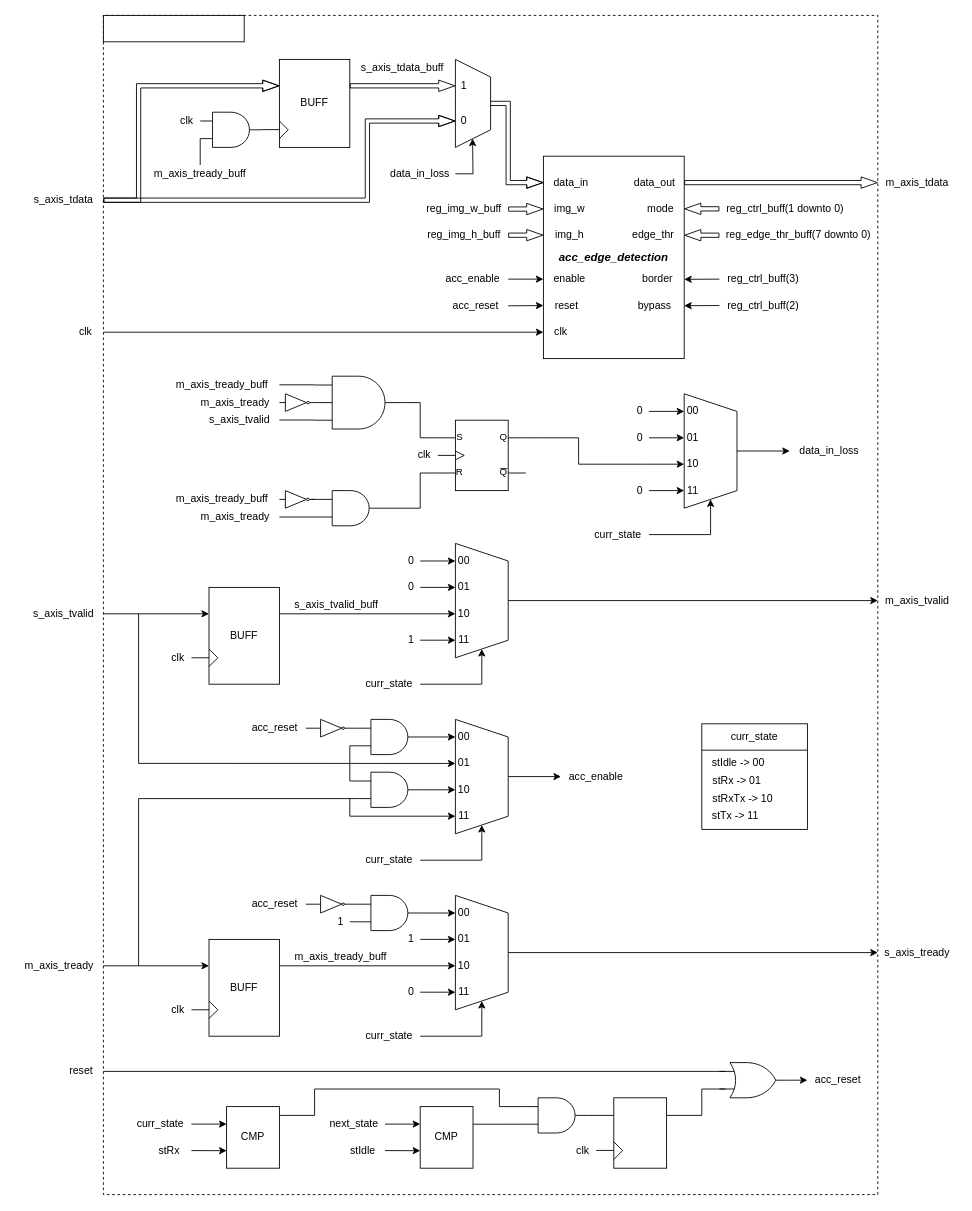
This 972x1211 diagram has some shape labels left out. Here are the shapes that lost their labels. From the top down, the centre of each, then its label:
point 173,28: axi_acc_edge_detection
point 640,1132: REG
